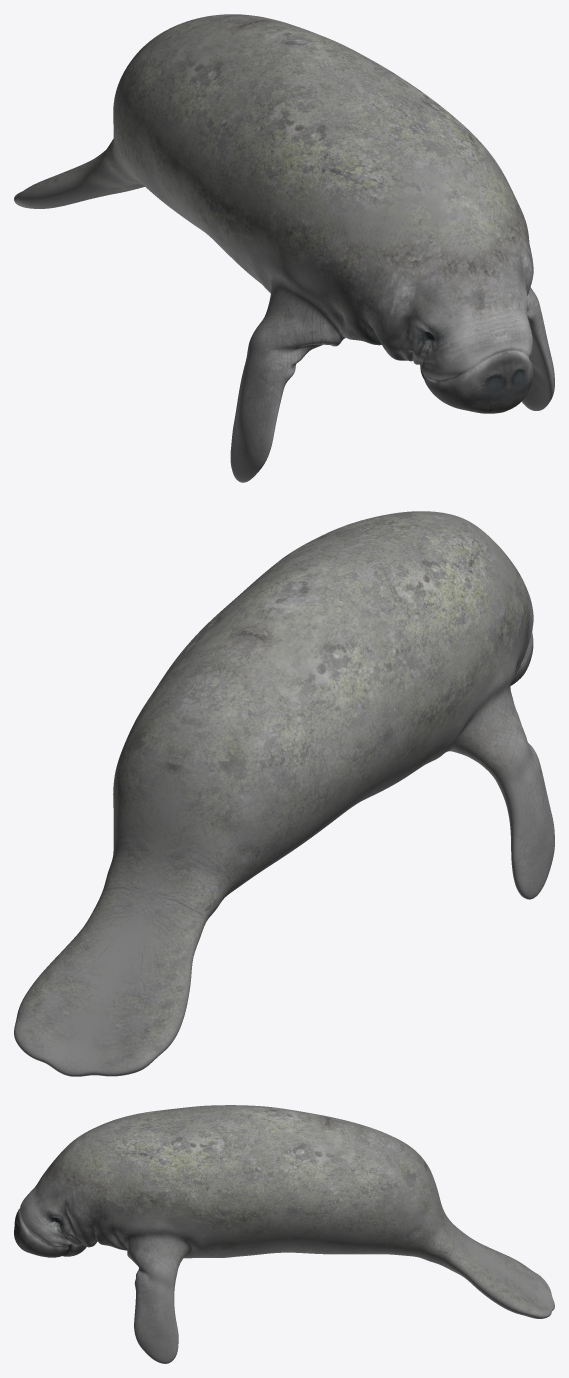
File: manatee.fbx
3 views of the same model, one above another, from view 1: azimuth 30°, elevation 25°; view 2: azimuth 150°, elevation 25°; view 3: azimuth 270°, elevation 25° (orthographic). The views are drawn at different scales.
Visible parts, largest first — view 1: 12957_Manatee_v1_l3; view 2: 12957_Manatee_v1_l3; view 3: 12957_Manatee_v1_l3.
Part boxes in pixels (bbox=[...]): 12957_Manatee_v1_l3: bbox=[14, 14, 554, 482]; 12957_Manatee_v1_l3: bbox=[14, 511, 554, 1076]; 12957_Manatee_v1_l3: bbox=[14, 1105, 554, 1363].
Bounding box in the file's own units: 155 × 167 × 390.
1 material, 1 textured.
